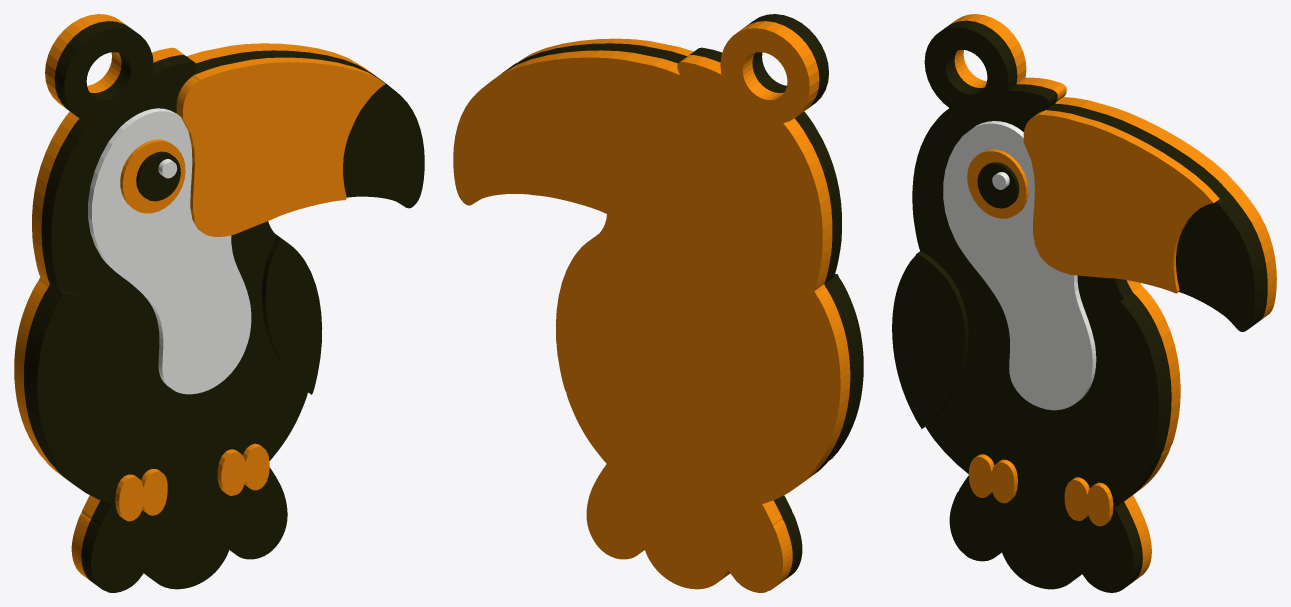
File: Tucan.obj
3 renders of one model, left to right at view 1: azimuth 30°, elevation 25°; view 2: azimuth 150°, elevation 25°; view 3: azimuth 330°, elevation 25°, orthographic. The views are drawn at different scales.
Visible parts, largest first — view 1: negro, naranja (1), blanco (1), negro (2), naranja, negro (3), negro (1), naranja (5), naranja (2), naranja (3), negro (4), naranja (4); view 2: naranja, negro, negro (2), naranja (4); view 3: negro, naranja (1), blanco (1), negro (2), naranja, negro (3), negro (1), naranja (5), naranja (2), naranja (3), negro (4), naranja (4).
Part boxes in pixels (left/top/right/bottom): negro: left=24, top=21, right=381, bottom=592; naranja (1): left=180, top=60, right=385, bottom=236; blanco (1): left=88, top=108, right=251, bottom=394; negro (2): left=33, top=291, right=114, bottom=477; naranja: left=14, top=14, right=372, bottom=580; negro (3): left=343, top=80, right=424, bottom=208; negro (1): left=261, top=236, right=322, bottom=394; naranja (5): left=120, top=139, right=185, bottom=213; naranja (2): left=115, top=469, right=167, bottom=521; naranja (3): left=217, top=443, right=269, bottom=495; negro (4): left=136, top=151, right=180, bottom=201; naranja (4): left=176, top=57, right=380, bottom=115; naranja: left=453, top=21, right=850, bottom=592; negro: left=502, top=14, right=859, bottom=580; negro (2): left=829, top=274, right=863, bottom=460; naranja (4): left=516, top=40, right=690, bottom=63; negro: left=912, top=20, right=1267, bottom=592; naranja (1): left=1023, top=112, right=1215, bottom=293; blanco (1): left=943, top=121, right=1096, bottom=410; negro (2): left=892, top=251, right=968, bottom=428; naranja: left=948, top=14, right=1276, bottom=581; negro (3): left=1176, top=199, right=1258, bottom=331; negro (1): left=1106, top=299, right=1162, bottom=461; naranja (5): left=967, top=149, right=1028, bottom=218; naranja (2): left=968, top=454, right=1017, bottom=503; naranja (3): left=1064, top=477, right=1113, bottom=526; negro (4): left=977, top=162, right=1019, bottom=208; naranja (4): left=1036, top=110, right=1219, bottom=201.
Size of the model in its own units: 3.47 by 4.94 by 0.5.
